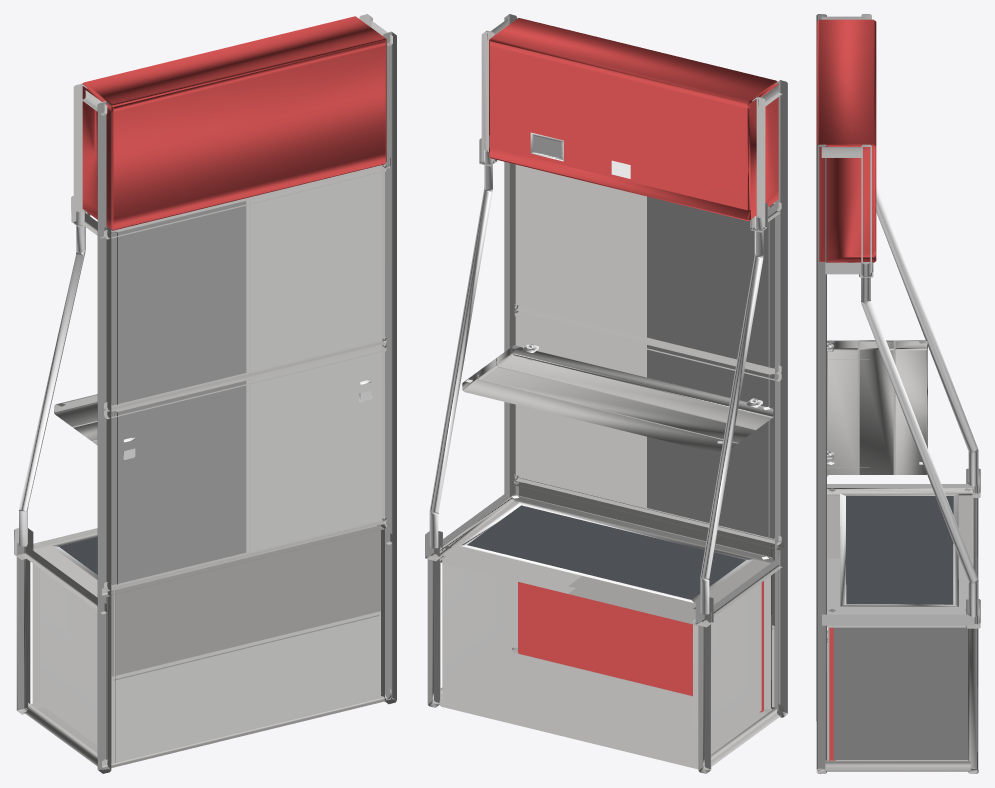
Rendered from rack_shoe_2_02x0125x045_a.glb.
The picture shows the model from 3 angles, left to right: view 1: azimuth 30°, elevation 25°; view 2: azimuth 150°, elevation 25°; view 3: azimuth 270°, elevation 25°; orthographic projection. The views are drawn at different scales.
Size of the model in its own units: 1.6 by 3.42 by 0.8127.
